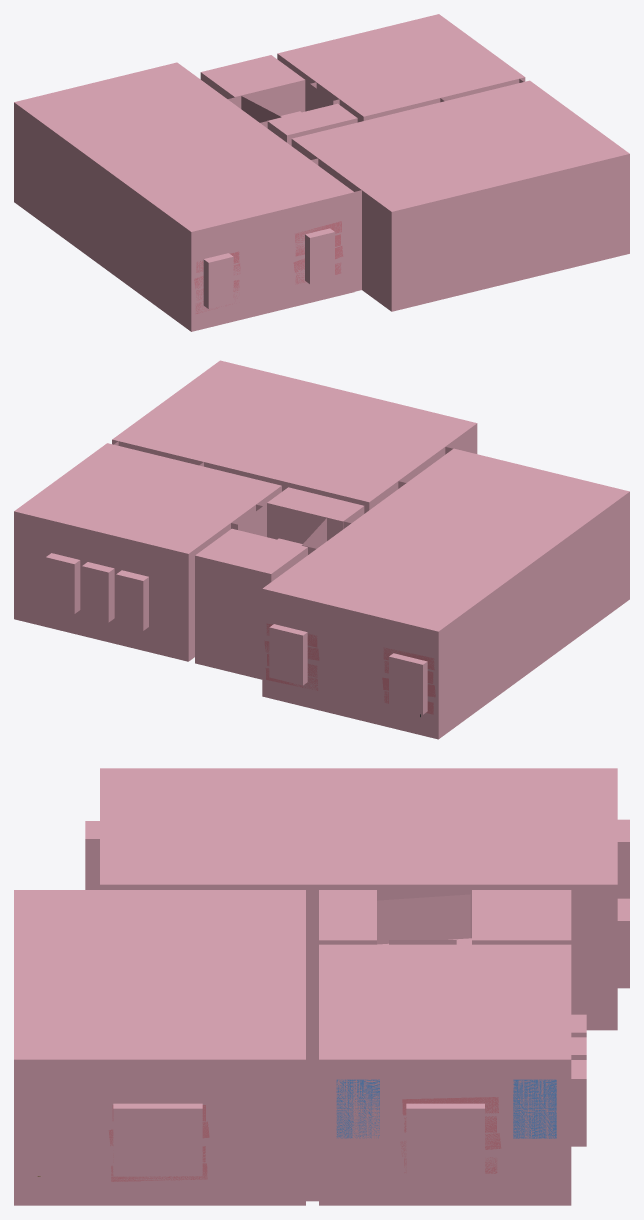
Rendered from LobbyHouse.fbx.
The picture shows the model from 3 angles, top to bottom: view 1: azimuth 30°, elevation 25°; view 2: azimuth 150°, elevation 25°; view 3: azimuth 270°, elevation 25°; orthographic projection. The views are drawn at different scales.
Visible parts, largest first — view 1: Plane.001, Plane; view 2: Plane.001, Plane; view 3: Plane.001, Plane, Cube.049, Cube.050, Cube.026.
Part boxes in pixels (left/top/right/bottom): Plane.001: left=14, top=14, right=629, bottom=231; Plane: left=14, top=54, right=629, bottom=331; Plane.001: left=14, top=360, right=629, bottom=631; Plane: left=14, top=423, right=629, bottom=739; Plane.001: left=14, top=768, right=617, bottom=1059; Plane: left=14, top=819, right=629, bottom=1205; Cube.049: left=513, top=1079, right=556, bottom=1138; Cube.050: left=336, top=1079, right=379, bottom=1138; Cube.026: left=402, top=1097, right=498, bottom=1115.
Size of the model in its own units: 1745 by 402 by 1534.
